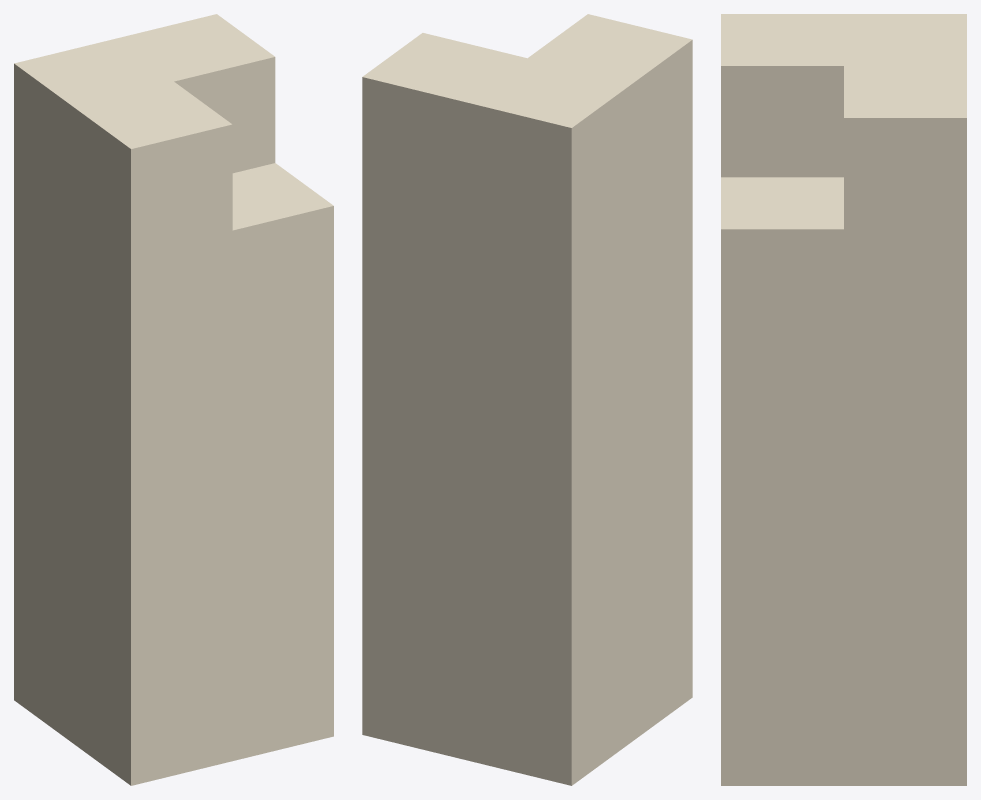
File: arctic_fox__leg_br.glb
3 renders of one model, left to right at view 1: azimuth 30°, elevation 25°; view 2: azimuth 150°, elevation 25°; view 3: azimuth 270°, elevation 25°, orthographic. The views are drawn at different scales.
Visible parts, largest first — view 1: arctic_fox__leg_br; view 2: arctic_fox__leg_br; view 3: arctic_fox__leg_br.
Part boxes in pixels (<box>): arctic_fox__leg_br: <box>14,14,333,785</box>; arctic_fox__leg_br: <box>362,14,692,785</box>; arctic_fox__leg_br: <box>721,14,966,785</box>.
Bounding box in the file's own units: 0.2 × 0.6 × 0.2.
1 material, 1 textured.
